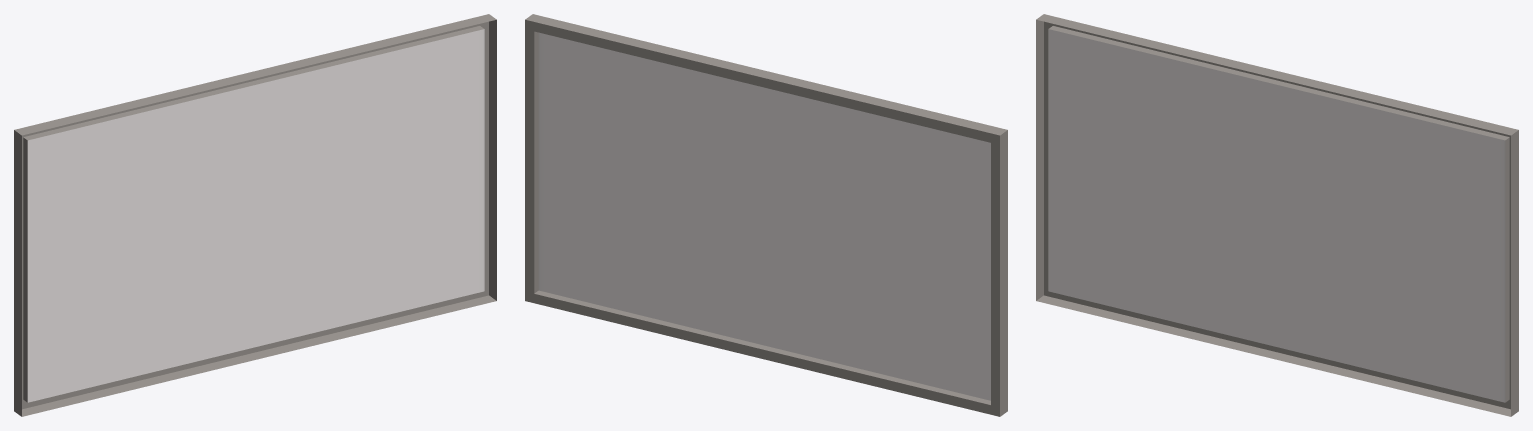
The model's file is WhiteBoard_Wall.fbx.
3 renders of one model, left to right at view 1: azimuth 30°, elevation 25°; view 2: azimuth 150°, elevation 25°; view 3: azimuth 330°, elevation 25°, orthographic.
Visible parts, largest first — view 1: WhiteBoard_Wall; view 2: WhiteBoard_Wall; view 3: WhiteBoard_Wall.
Boxes of the visible parts, x1=… form: WhiteBoard_Wall: x1=14, y1=14, x2=496, y2=416; WhiteBoard_Wall: x1=525, y1=14, x2=1007, y2=416; WhiteBoard_Wall: x1=1036, y1=14, x2=1518, y2=416.
Size of the model in its own units: 559 by 317 by 15.83.
